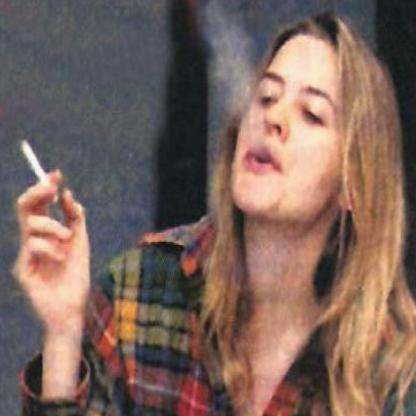cigarette: (19, 138, 56, 202)
person: (98, 6, 415, 415)
